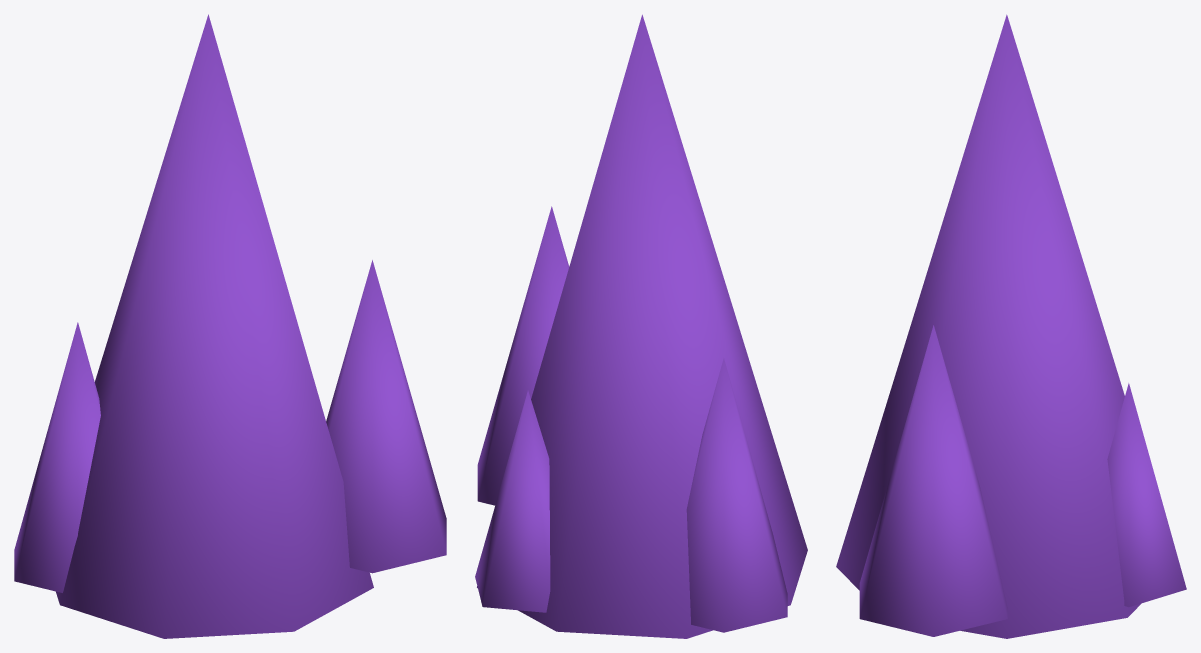
File: crystal.obj
3 views of the same model, side by side, from view 1: azimuth 30°, elevation 25°; view 2: azimuth 150°, elevation 25°; view 3: azimuth 270°, elevation 25° (orthographic).
Bounding box in the file's own units: 2.8 × 4 × 2.3.
